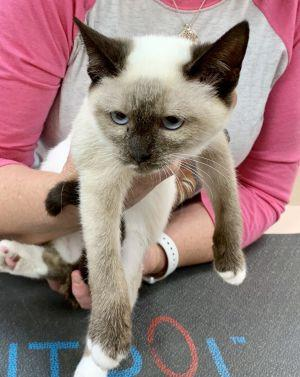siamese: (67, 12, 257, 186)
